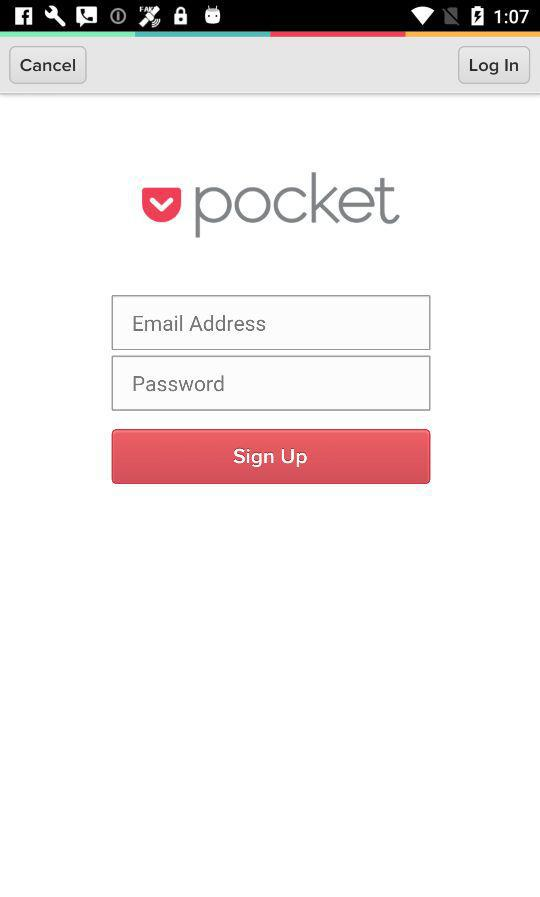EditText: (112, 355, 432, 412), (112, 295, 432, 351)
Image: (142, 172, 402, 240)
Text: (134, 314, 266, 332), (134, 376, 225, 393)
TextButton: (112, 429, 431, 485), (9, 46, 88, 85), (457, 46, 531, 85)
Toolbar: (1, 38, 540, 94)
UpperTaskBar: (1, 1, 540, 33)
